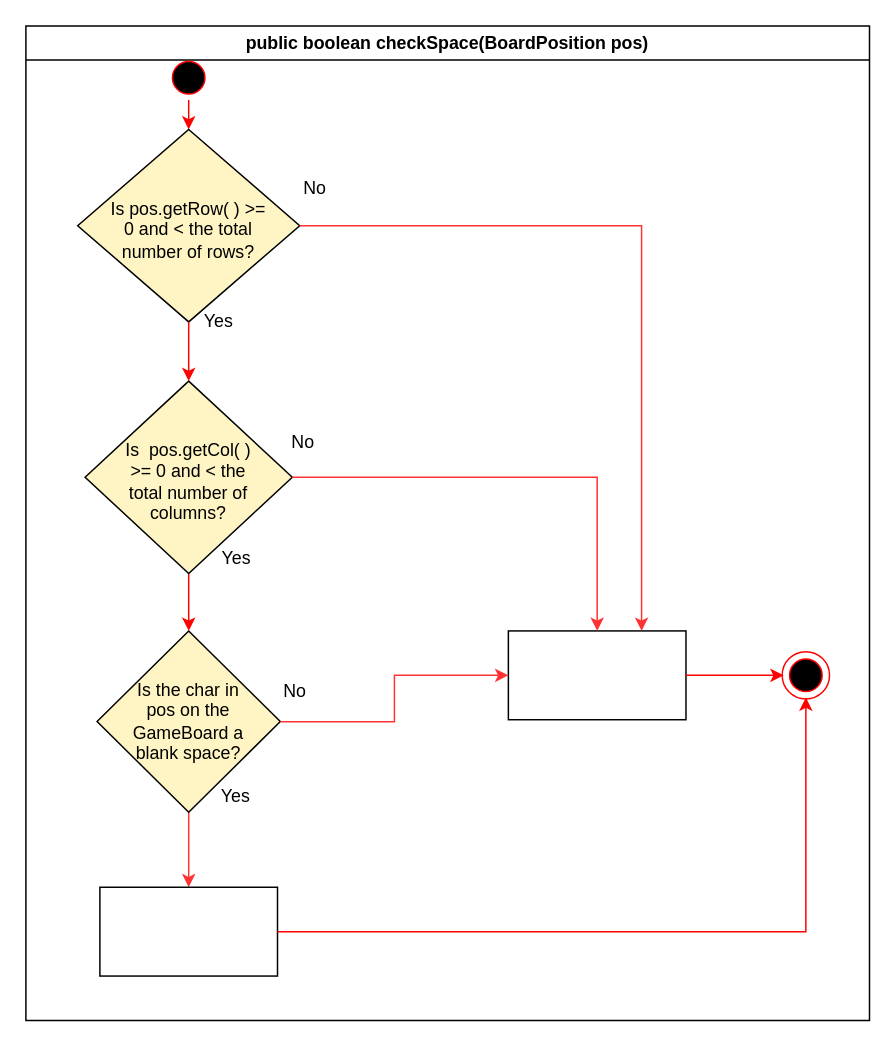
This 895x1046 diagram has some shape labels left out. The shapes that lost their labels are listed below. From the top down, each one's centre as x and y in pixels, then its label:
At [596,674]: "Return False".
At [188,931]: "Return True".
